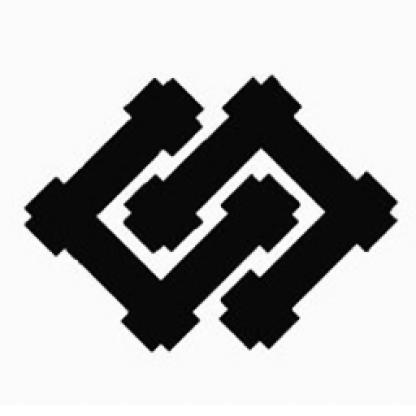kamon: (20, 73, 402, 353)
